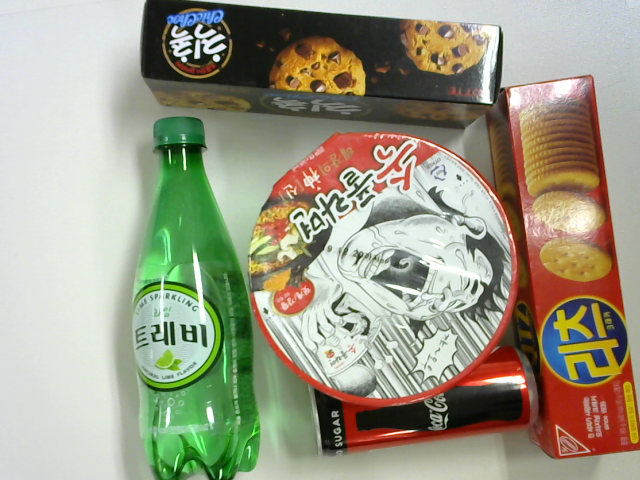Chicchok_Original_2400: (133, 1, 514, 124)
Coca_Cola_Zero_Can_250ml: (295, 345, 543, 465)
Hejangpul: (244, 118, 522, 409)
Ritz_Cracker: (476, 67, 640, 464)
Treviraim_500ml: (122, 104, 267, 480)
